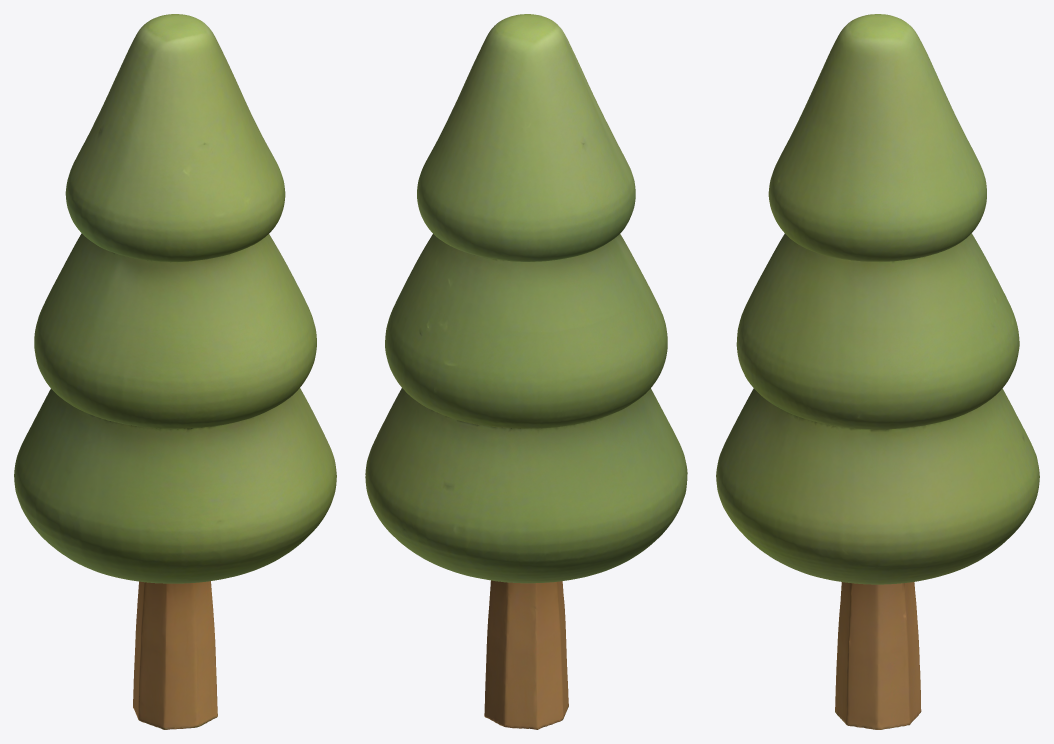
Rendered from tree-1.glb.
3 renders of one model, left to right at view 1: azimuth 30°, elevation 25°; view 2: azimuth 150°, elevation 25°; view 3: azimuth 270°, elevation 25°, orthographic.
Bounding box in the file's own units: 0.8481 × 2 × 0.8499.
1 material, 1 textured.
